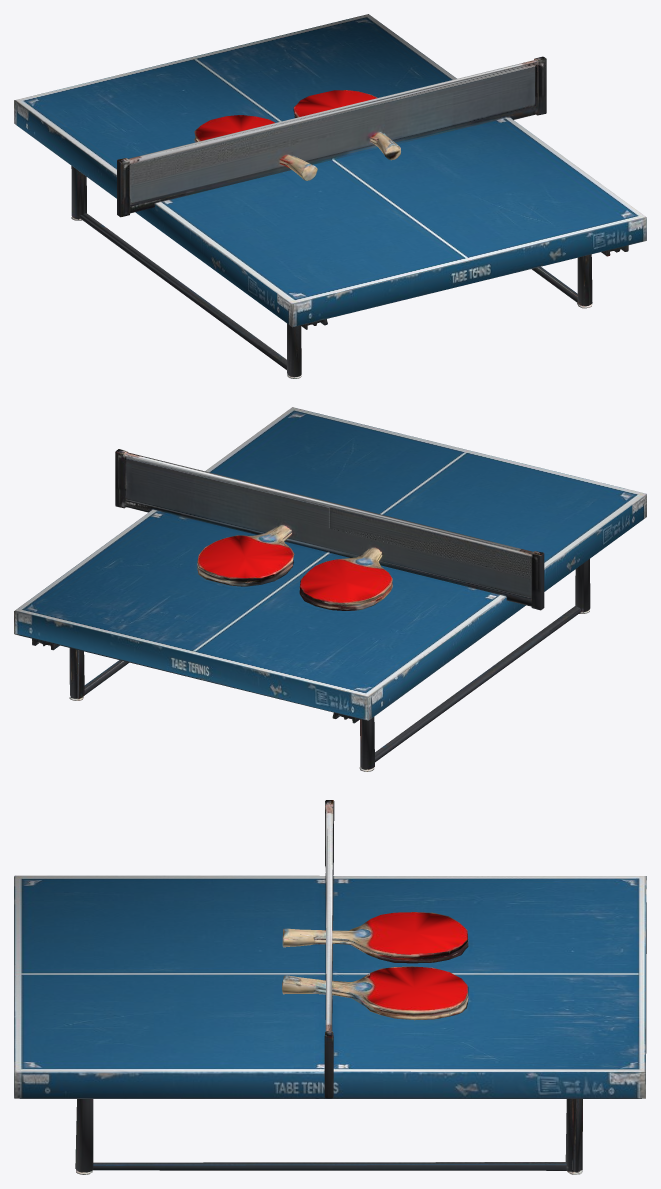
The model's file is office-ping-pong-table.glb.
The picture shows the model from 3 angles, top to bottom: view 1: azimuth 30°, elevation 25°; view 2: azimuth 150°, elevation 25°; view 3: azimuth 270°, elevation 25°; orthographic projection. The views are drawn at different scales.
Visible parts, largest first — view 1: ping-pong-table; view 2: ping-pong-table; view 3: ping-pong-table.
Boxes of the visible parts, left/top/right/bottom form: ping-pong-table: left=14, top=14, right=646, bottom=378; ping-pong-table: left=14, top=407, right=646, bottom=771; ping-pong-table: left=14, top=800, right=646, bottom=1174.
Bounding box in the file's own units: 2.42 × 0.8281 × 2.74.
Materials: 1 (1 with a texture image).
